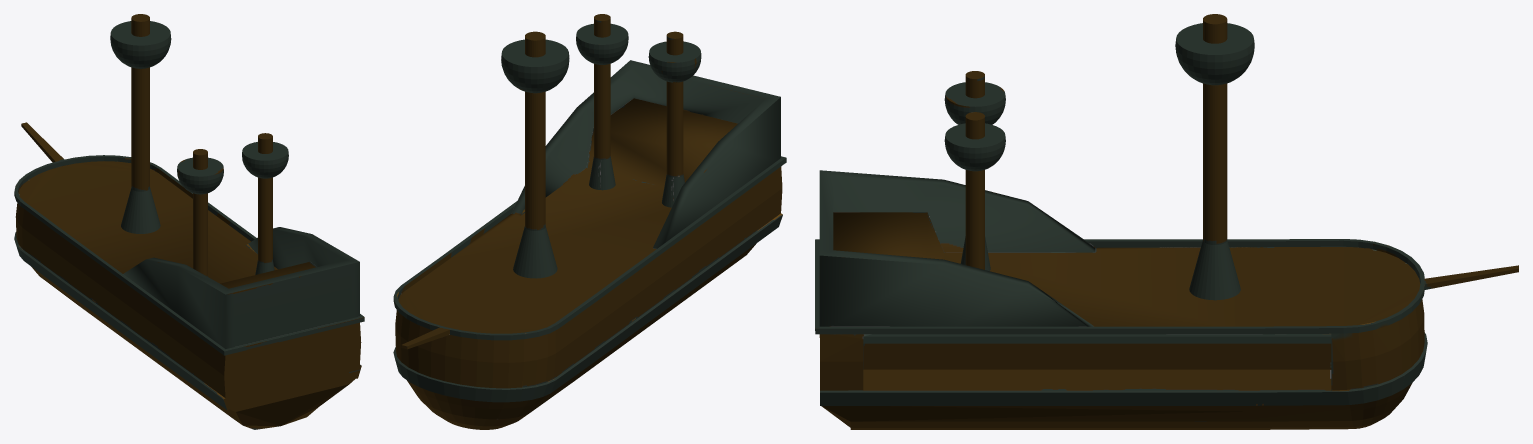
Rendered from galaxyBody.obj.
3 views of the same model, side by side, from view 1: azimuth 30°, elevation 25°; view 2: azimuth 150°, elevation 25°; view 3: azimuth 270°, elevation 25° (orthographic). The views are drawn at different scales.
Parts seen in each view (by area): view 1: 球, 円柱, 球.001_球.002, 円柱.001, 円柱.002, 球.002_球.003, 球.003_球.004; view 2: 球, 円柱, 円柱.001, 球.001_球.002, 円柱.002, 球.003_球.004, 球.002_球.003; view 3: 球, 円柱, 球.001_球.002, 円柱.001, 球.002_球.003, 球.003_球.004, 円柱.002.
Boxes of the visible parts, <box> form: 球: <box>14,122,364,429</box>; 円柱: <box>121,14,160,233</box>; 球.001_球.002: <box>110,21,171,68</box>; 円柱.001: <box>255,133,274,274</box>; 円柱.002: <box>193,149,207,276</box>; 球.002_球.003: <box>242,142,288,178</box>; 球.003_球.004: <box>177,157,223,194</box>; 球: <box>393,60,786,429</box>; 円柱: <box>513,31,557,278</box>; 円柱.001: <box>589,14,615,190</box>; 球.001_球.002: <box>501,39,569,93</box>; 円柱.002: <box>662,31,684,207</box>; 球.003_球.004: <box>648,41,701,82</box>; 球.002_球.003: <box>576,23,628,64</box>; 球: <box>815,170,1518,429</box>; 円柱: <box>1189,14,1240,300</box>; 球.001_球.002: <box>1175,23,1254,85</box>; 円柱.001: <box>965,112,984,269</box>; 球.002_球.003: <box>944,123,1005,171</box>; 球.003_球.004: <box>944,82,1005,124</box>; 円柱.002: <box>960,71,990,270</box>.
Size of the model in its own units: 1.79 by 3.6 by 5.78.
Materials: 7 (7 with a texture image).
